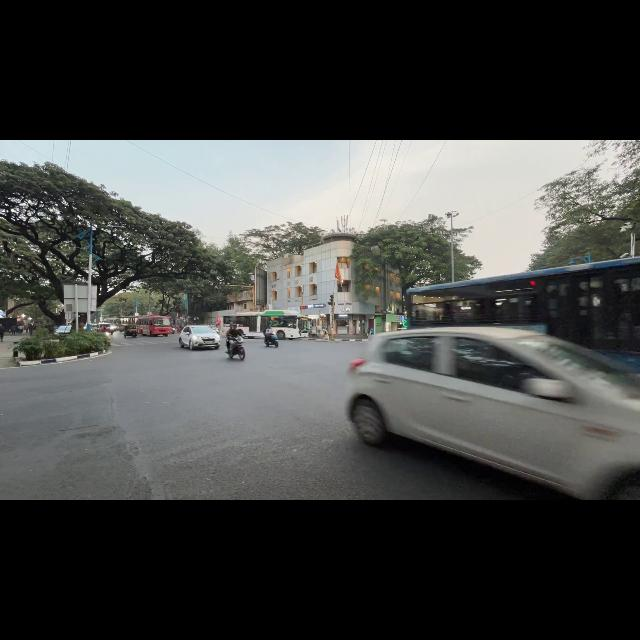bus: (406, 258, 639, 369), (221, 310, 308, 339), (137, 315, 170, 336)
car: (348, 327, 639, 499), (179, 325, 220, 349), (54, 326, 72, 338), (170, 327, 176, 334)
motorcycle: (228, 336, 245, 360), (264, 334, 278, 348)
